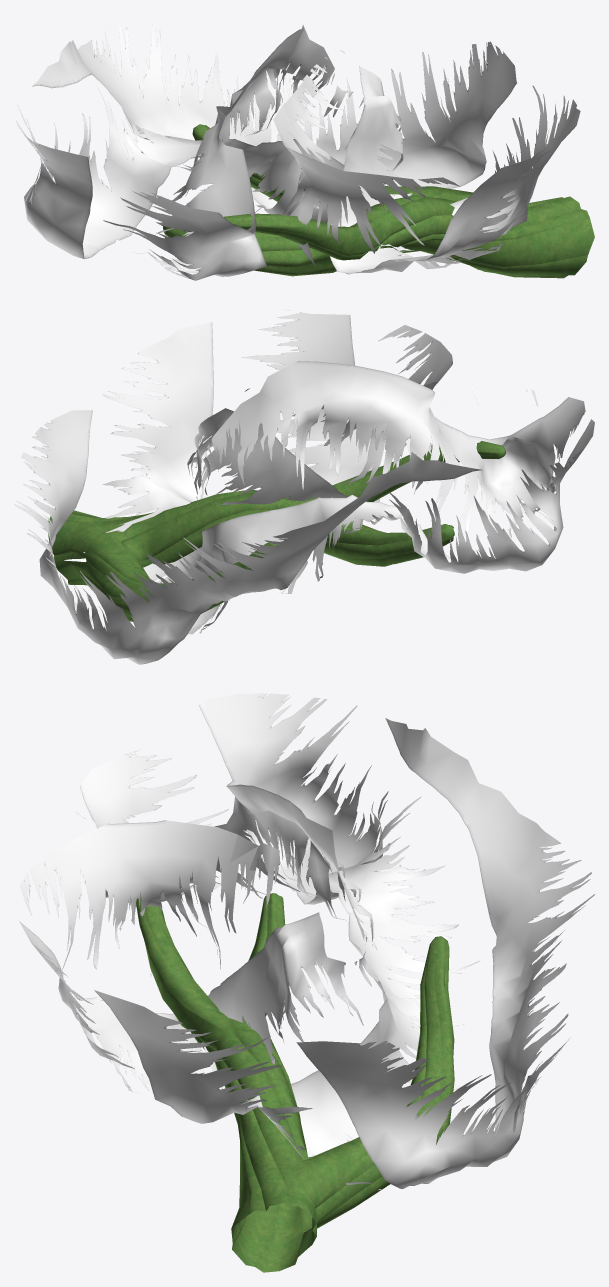
File: SM_ENV_KNFRST_Leaf_B.FBX
The picture shows the model from 3 angles, top to bottom: view 1: azimuth 30°, elevation 25°; view 2: azimuth 150°, elevation 25°; view 3: azimuth 270°, elevation 25°; orthographic projection. The views are drawn at different scales.
Parts seen in each view (by area): view 1: SM_ENV_KNFRST_Leaf_B; view 2: SM_ENV_KNFRST_Leaf_B; view 3: SM_ENV_KNFRST_Leaf_B.
Part boxes in pixels (box(x1,y1,x2,y2)): SM_ENV_KNFRST_Leaf_B: box(16, 18, 594, 280); SM_ENV_KNFRST_Leaf_B: box(14, 309, 594, 664); SM_ENV_KNFRST_Leaf_B: box(19, 693, 594, 1272).
Bounding box in the file's own units: 4583 × 2497 × 3795.
